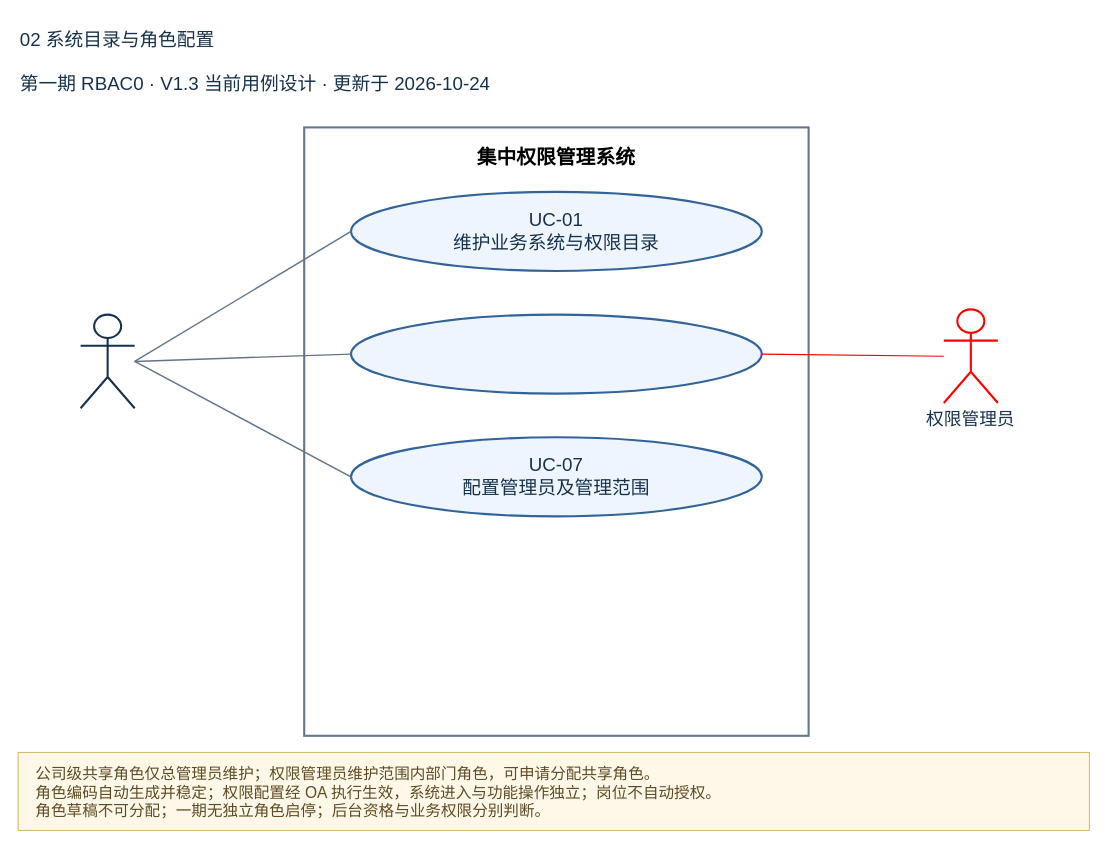
Image size: 1108x849. Some labels were removed from this diagram. Here are the shapes that lost their labels. From the top down, the centre of each, then its label:
At point (107, 361): "权限中心总管理员".
At point (555, 353): "UC-02 创建角色并配置权限".
